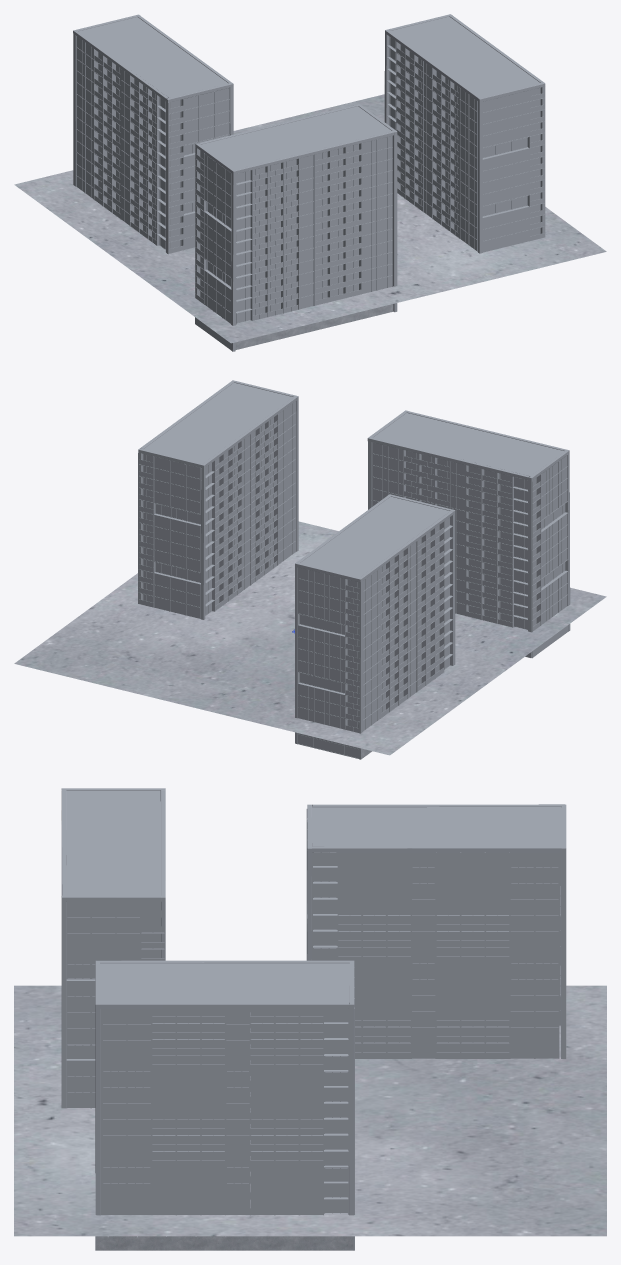
Rendered from testProduct.glb.
The picture shows the model from 3 angles, top to bottom: view 1: azimuth 30°, elevation 25°; view 2: azimuth 150°, elevation 25°; view 3: azimuth 270°, elevation 25°; orthographic projection. The views are drawn at different scales.
Parts seen in each view (by area): view 1: Building.001, Building, Building.002, Plane; view 2: Plane, Building.002, Building, Building.001; view 3: Plane, Building, Building.002, Building.001.
Part boxes in pixels (box(x1,y1,x2,y2)): Building.001: box(195, 104, 397, 351); Building: box(384, 14, 545, 253); Building.002: box(73, 14, 233, 254); Plane: box(14, 94, 606, 343); Plane: box(14, 521, 606, 755); Building.002: box(295, 494, 455, 759); Building: box(138, 380, 298, 619); Building.001: box(367, 410, 570, 658); Plane: box(14, 985, 606, 1236); Building: box(95, 960, 354, 1250); Building.002: box(306, 804, 566, 1058); Building.001: box(61, 788, 165, 1108).
Size of the model in its own units: 94.49 by 43.27 by 94.49.
Materials: 8 (2 with a texture image).
